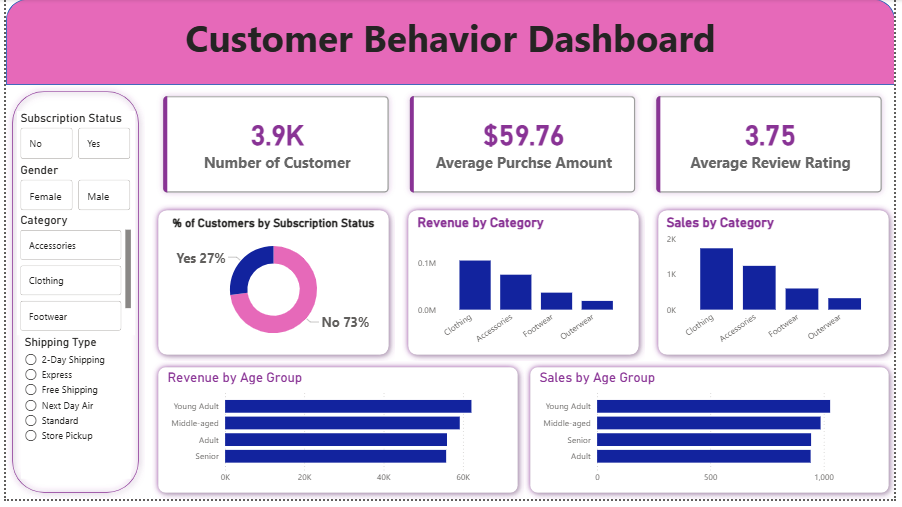

What the dashboard file says about the page in this screenshot:
{"tool":"powerbi","page":{"name":"Page 1","canvas":[1280,720],"ordinal":0},"visuals":[{"type":"cardVisual","fields":{"Data":["customer_behavior customer.Number of Customer","customer_behavior customer.Average Purchse Amount","customer_behavior customer.Average Review Rating"]},"box":[210.2,123.8,1069.9,171.4],"z":0},{"type":"shape","box":[0,0,1280.2,123.8],"z":1000},{"type":"textbox","box":[0,13,1280.2,110.9],"z":2000},{"type":"shape","box":[930.1,295.2,349.9,226.1],"z":3000},{"type":"shape","box":[210.2,295.2,349.9,226.1],"z":4000},{"type":"shape","box":[570.2,295.2,349.9,226.1],"z":5000},{"type":"donutChart","title":"% of Customers by Subscription Status","fields":{"Category":["customer_behavior customer.subscription_status"],"Y":["CountNonNull(customer_behavior customer.customer_id)"]},"box":[227.5,312.5,315.4,193],"z":6000},{"type":"clusteredColumnChart","title":"Revenue by Category","fields":{"Category":["customer_behavior customer.category"],"Y":["Sum(customer_behavior customer.purchase_amount)"]},"box":[587.5,309.6,316.8,198.7],"z":7000},{"type":"clusteredColumnChart","title":"Sales by Category","fields":{"Category":["customer_behavior customer.category"],"Y":["CountNonNull(customer_behavior customer.customer_id)"]},"box":[946.1,309.6,316.8,198.7],"z":8000},{"type":"shape","box":[0,123.8,200.2,596.2],"z":9000},{"type":"advancedSlicerVisual","title":"Subscription Status","fields":{"Values":["customer_behavior customer.subscription_status"]},"box":[15.8,161.3,169.9,74.9],"z":10000},{"type":"advancedSlicerVisual","title":"Gender","fields":{"Values":["customer_behavior customer.gender"]},"box":[15.8,236.2,169.9,73.4],"z":11000},{"type":"advancedSlicerVisual","title":"Category","fields":{"Values":["customer_behavior customer.category"]},"box":[15.8,308.2,169.9,175.7],"z":12000},{"type":"listSlicer","fields":{"Values":["customer_behavior customer.shipping_type"]},"box":[21.6,483.8,158.4,207.4],"z":13000},{"type":"shape","box":[210.2,521.3,535.7,198.7],"z":14000},{"type":"clusteredBarChart","title":"Revenue by Age Group","fields":{"Y":["Sum(customer_behavior customer.purchase_amount)"],"Category":["customer_behavior customer.age_group"]},"box":[227.5,532.8,502.6,174.2],"z":15000},{"type":"shape","box":[745.9,521.3,534.2,198.7],"z":16000},{"type":"clusteredBarChart","title":"Sales by Age Group","fields":{"Category":["customer_behavior customer.age_group"],"Y":["CountNonNull(customer_behavior customer.customer_id)"]},"box":[763.2,532.8,499.7,174.2],"z":17000}]}

Visuals, with their boxes in screenshot pixels (x1, y1, x2, y2), scaled from the page's 1280x720 canvas onto the 902x507 screenshot:
cardVisual - customer_behavior customer.Number of Customer x customer_behavior customer.Average Purchse Amount: 148 87 901 208
shape: 0 0 901 87
textbox: 0 9 901 87
shape: 655 208 901 367
shape: 148 208 395 367
shape: 402 208 648 367
"% of Customers by Subscription Status" donutChart: 160 220 383 356
"Revenue by Category" clusteredColumnChart: 414 218 637 358
"Sales by Category" clusteredColumnChart: 667 218 890 358
shape: 0 87 141 506
"Subscription Status" advancedSlicerVisual: 11 114 131 166
"Gender" advancedSlicerVisual: 11 166 131 218
"Category" advancedSlicerVisual: 11 217 131 341
listSlicer - customer_behavior customer.shipping_type: 15 341 127 487
shape: 148 367 526 506
"Revenue by Age Group" clusteredBarChart: 160 375 514 498
shape: 526 367 901 506
"Sales by Age Group" clusteredBarChart: 538 375 890 498
